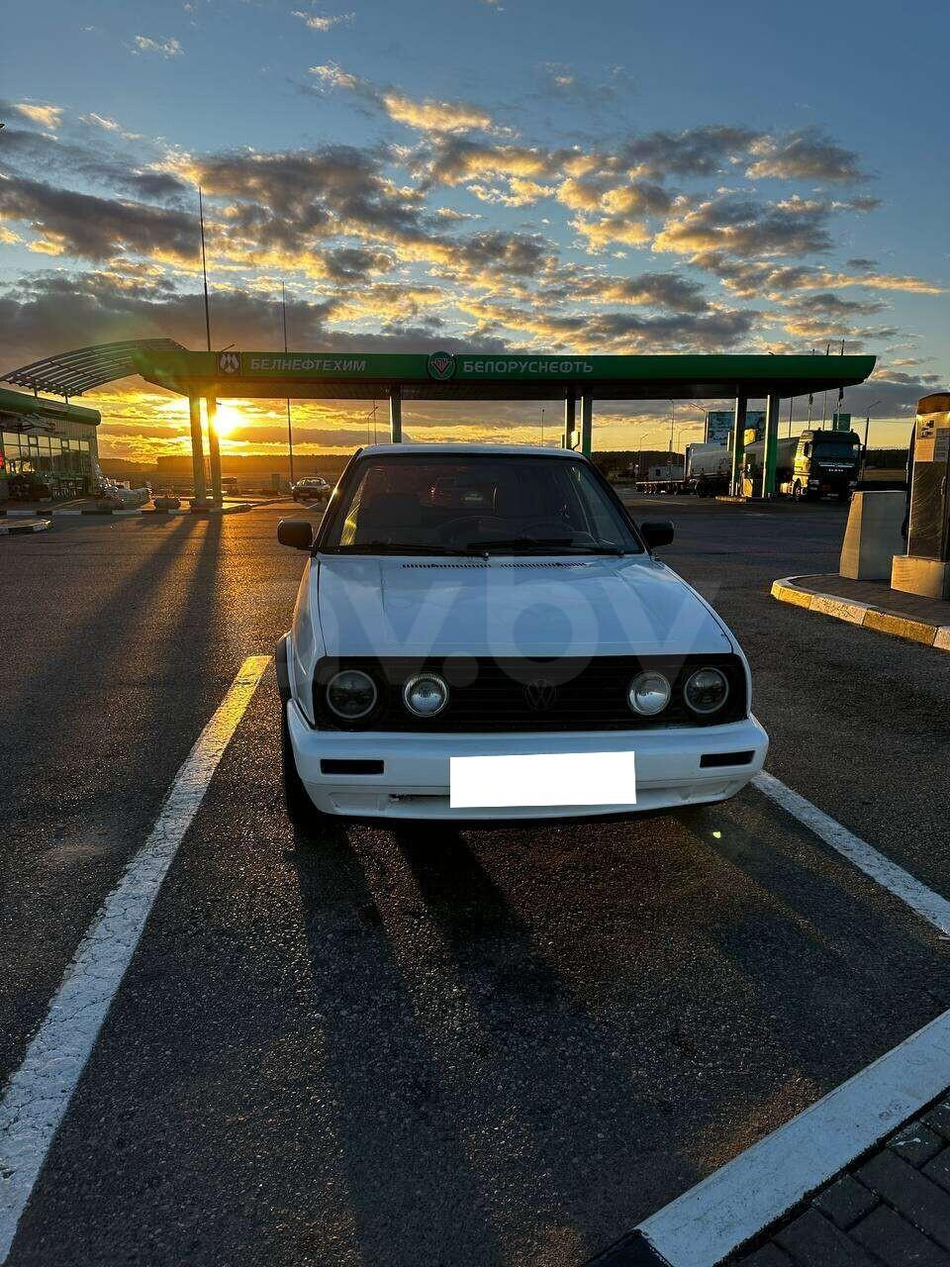Golf_1983-1992: (270, 449, 769, 841)
